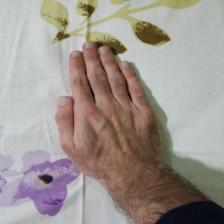five: (57, 40, 163, 182)
